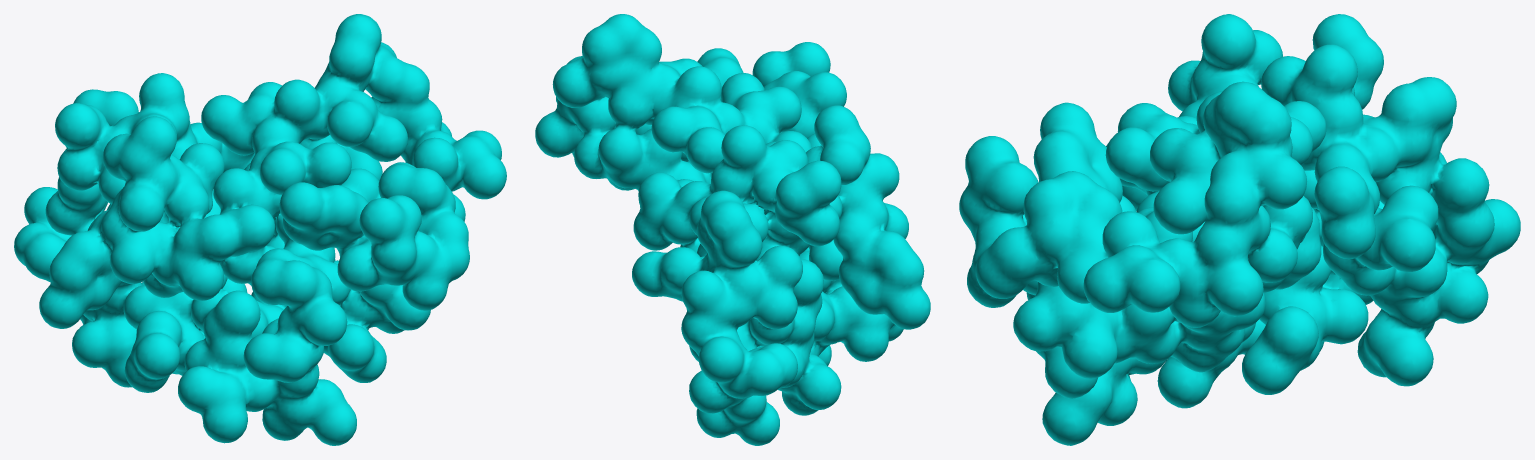
File: prot1.fbx
The picture shows the model from 3 angles, left to right: view 1: azimuth 30°, elevation 25°; view 2: azimuth 150°, elevation 25°; view 3: azimuth 270°, elevation 25°; orthographic projection. The views are drawn at different scales.
Visible parts, largest first — view 1: Volume_Mesher_1; view 2: Volume_Mesher_1; view 3: Volume_Mesher_1.
Boxes of the visible parts, x1,y1,x2,y2 form: Volume_Mesher_1: [14, 14, 506, 445]; Volume_Mesher_1: [535, 14, 930, 445]; Volume_Mesher_1: [959, 14, 1520, 445].
Bounding box in the file's own units: 30.29 × 24.43 × 29.88.
